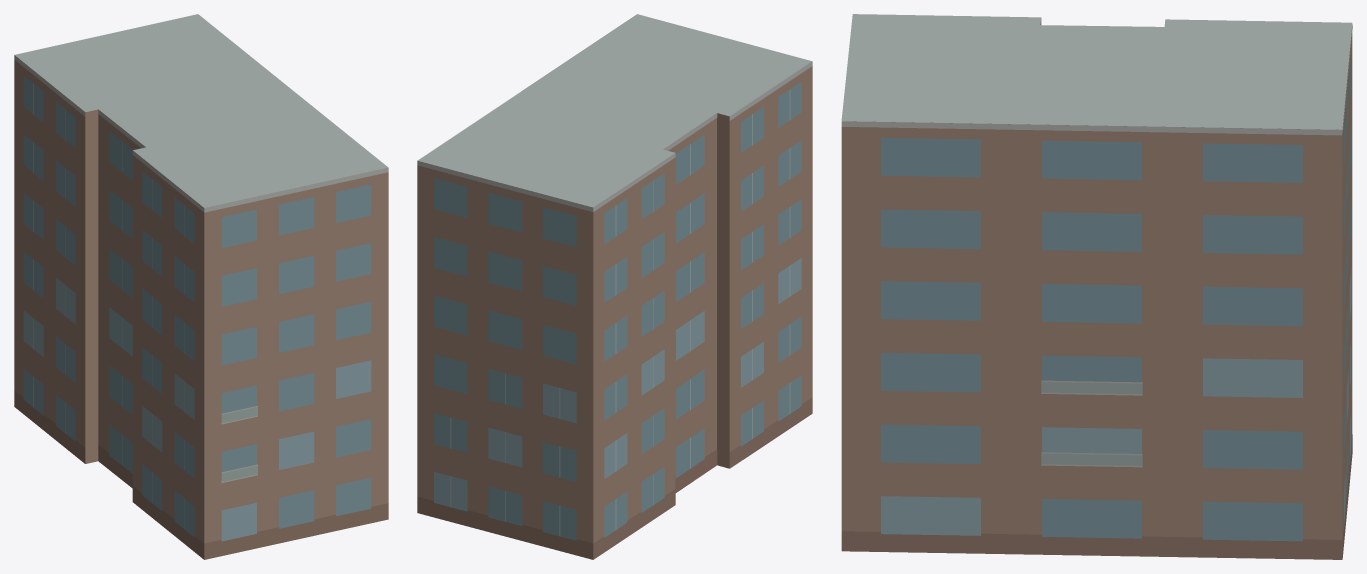
Rendered from survey-upis-32579917.glb.
The picture shows the model from 3 angles, left to right: view 1: azimuth 30°, elevation 25°; view 2: azimuth 150°, elevation 25°; view 3: azimuth 270°, elevation 25°; orthographic projection. The views are drawn at different scales.
Visible parts, largest first — view 1: survey-upis-32579917.tmp; view 2: survey-upis-32579917.tmp; view 3: survey-upis-32579917.tmp.
Boxes of the visible parts, x1,y1,x2,y2 form: survey-upis-32579917.tmp: [14, 14, 388, 559]; survey-upis-32579917.tmp: [417, 14, 812, 559]; survey-upis-32579917.tmp: [841, 14, 1352, 559].
Bounding box in the file's own units: 10.75 × 18.6 × 20.04.
